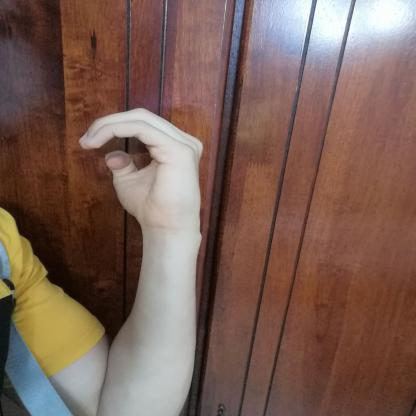JEEM: (57, 98, 218, 242)
